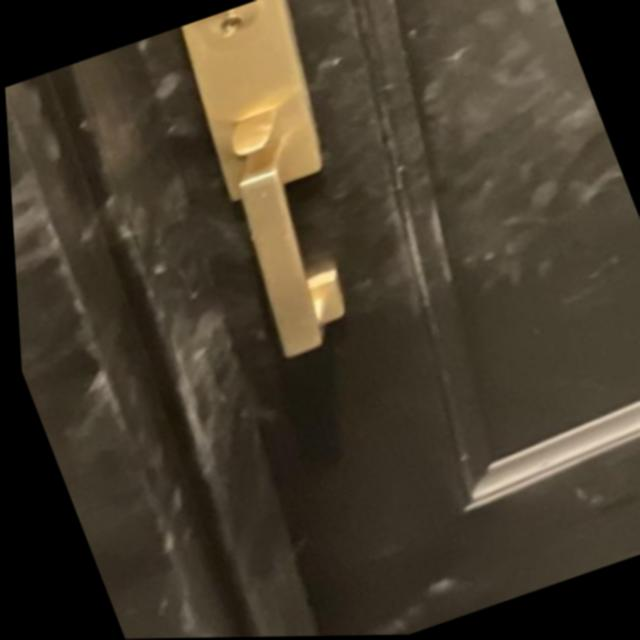door_handle: (149, 121, 416, 395)
